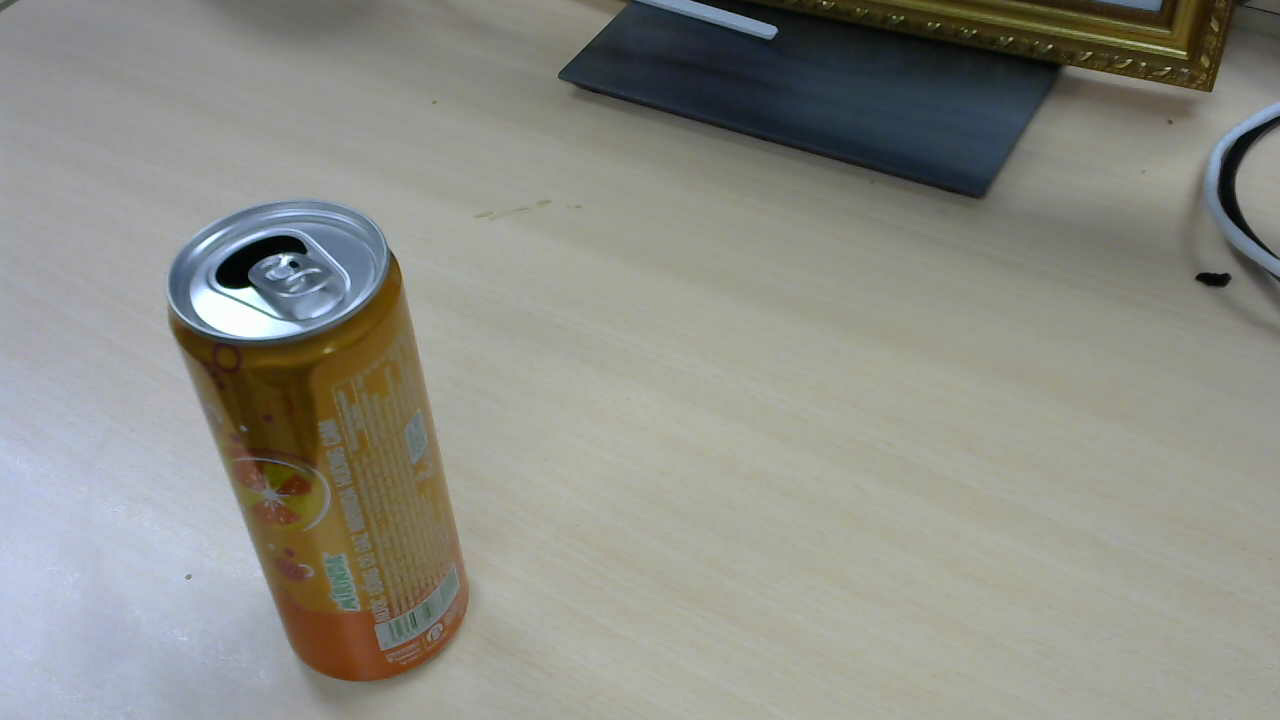Mirinda: (170, 206, 476, 688)
